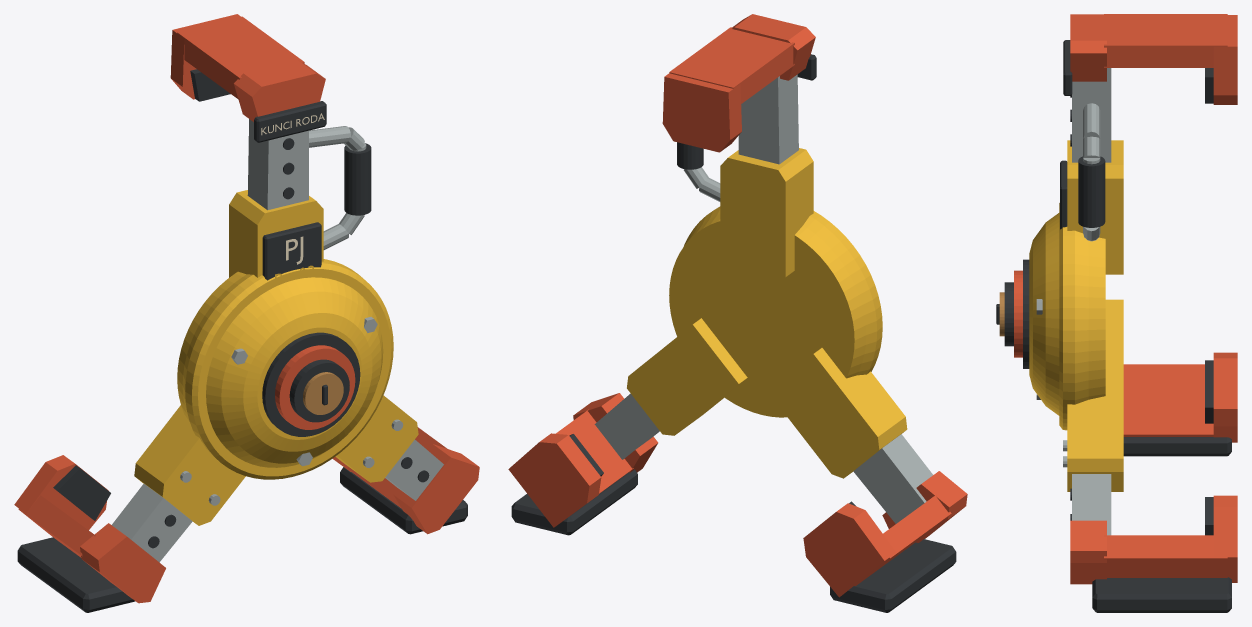
3 views of the same model, side by side, from view 1: azimuth 30°, elevation 25°; view 2: azimuth 150°, elevation 25°; view 3: azimuth 270°, elevation 25° (orthographic).
Parts seen in each view (by area): view 1: Spun hub guard, Welded arm sockets, Jaw elbows, Sliding jaw bars, Lock boss, Across tyre shoes, Parking skids, Hooked returns, Top lock label, Rubber contact pads, Crown pad, Carry sleeve (+2 smaller); view 2: Welded arm sockets, Spun hub guard, Hooked returns, Sliding jaw bars, Across tyre shoes, Parking skids, Jaw elbows, Carry loop, Carry sleeve; view 3: Across tyre shoes, Spun hub guard, Welded arm sockets, Parking skids, Hooked returns, Jaw elbows, Sliding jaw bars, Lock boss, Carry sleeve, Carry loop, Rubber contact pads, Top lock label (+1 smaller).
Part boxes in pixels (x1=…): Spun hub guard: x1=177, y1=259, x2=393, y2=479; Welded arm sockets: x1=134, y1=190, x2=418, y2=525; Jaw elbows: x1=80, y1=60, x2=479, y2=603; Sliding jaw bars: x1=112, y1=119, x2=443, y2=562; Lock boss: x1=262, y1=332, x2=360, y2=436; Across tyre shoes: x1=18, y1=16, x2=448, y2=557; Parking skids: x1=17, y1=467, x2=467, y2=612; Hooked returns: x1=14, y1=14, x2=350, y2=530; Top lock label: x1=262, y1=222, x2=321, y2=280; Rubber contact pads: x1=53, y1=69, x2=230, y2=520; Crown pad: x1=254, y1=101, x2=326, y2=142; Carry sleeve: x1=344, y1=143, x2=371, y2=215; Welded arm sockets: x1=627, y1=148, x2=907, y2=478; Spun hub guard: x1=669, y1=206, x2=882, y2=417; Hooked returns: x1=508, y1=73, x2=896, y2=597; Sliding jaw bars: x1=594, y1=74, x2=932, y2=523; Across tyre shoes: x1=556, y1=27, x2=951, y2=586; Parking skids: x1=511, y1=469, x2=956, y2=612; Jaw elbows: x1=573, y1=14, x2=967, y2=542; Carry loop: x1=683, y1=167, x2=720, y2=201; Carry sleeve: x1=677, y1=142, x2=703, y2=169; Across tyre shoes: x1=1104, y1=14, x2=1227, y2=577; Spun hub guard: x1=1029, y1=203, x2=1105, y2=430; Welded arm sockets: x1=1067, y1=140, x2=1123, y2=491; Parking skids: x1=1092, y1=437, x2=1231, y2=612; Hooked returns: x1=1213, y1=15, x2=1237, y2=582; Jaw elbows: x1=1070, y1=14, x2=1106, y2=584; Sliding jaw bars: x1=1072, y1=68, x2=1111, y2=535; Lock boss: x1=999, y1=259, x2=1029, y2=368; Carry sleeve: x1=1078, y1=156, x2=1105, y2=227; Carry loop: x1=1083, y1=103, x2=1100, y2=241; Rubber contact pads: x1=1205, y1=68, x2=1213, y2=535; Top lock label: x1=1060, y1=160, x2=1067, y2=229.
Bounding box in the file's own units: 0.721 × 0.888 × 0.3935.
